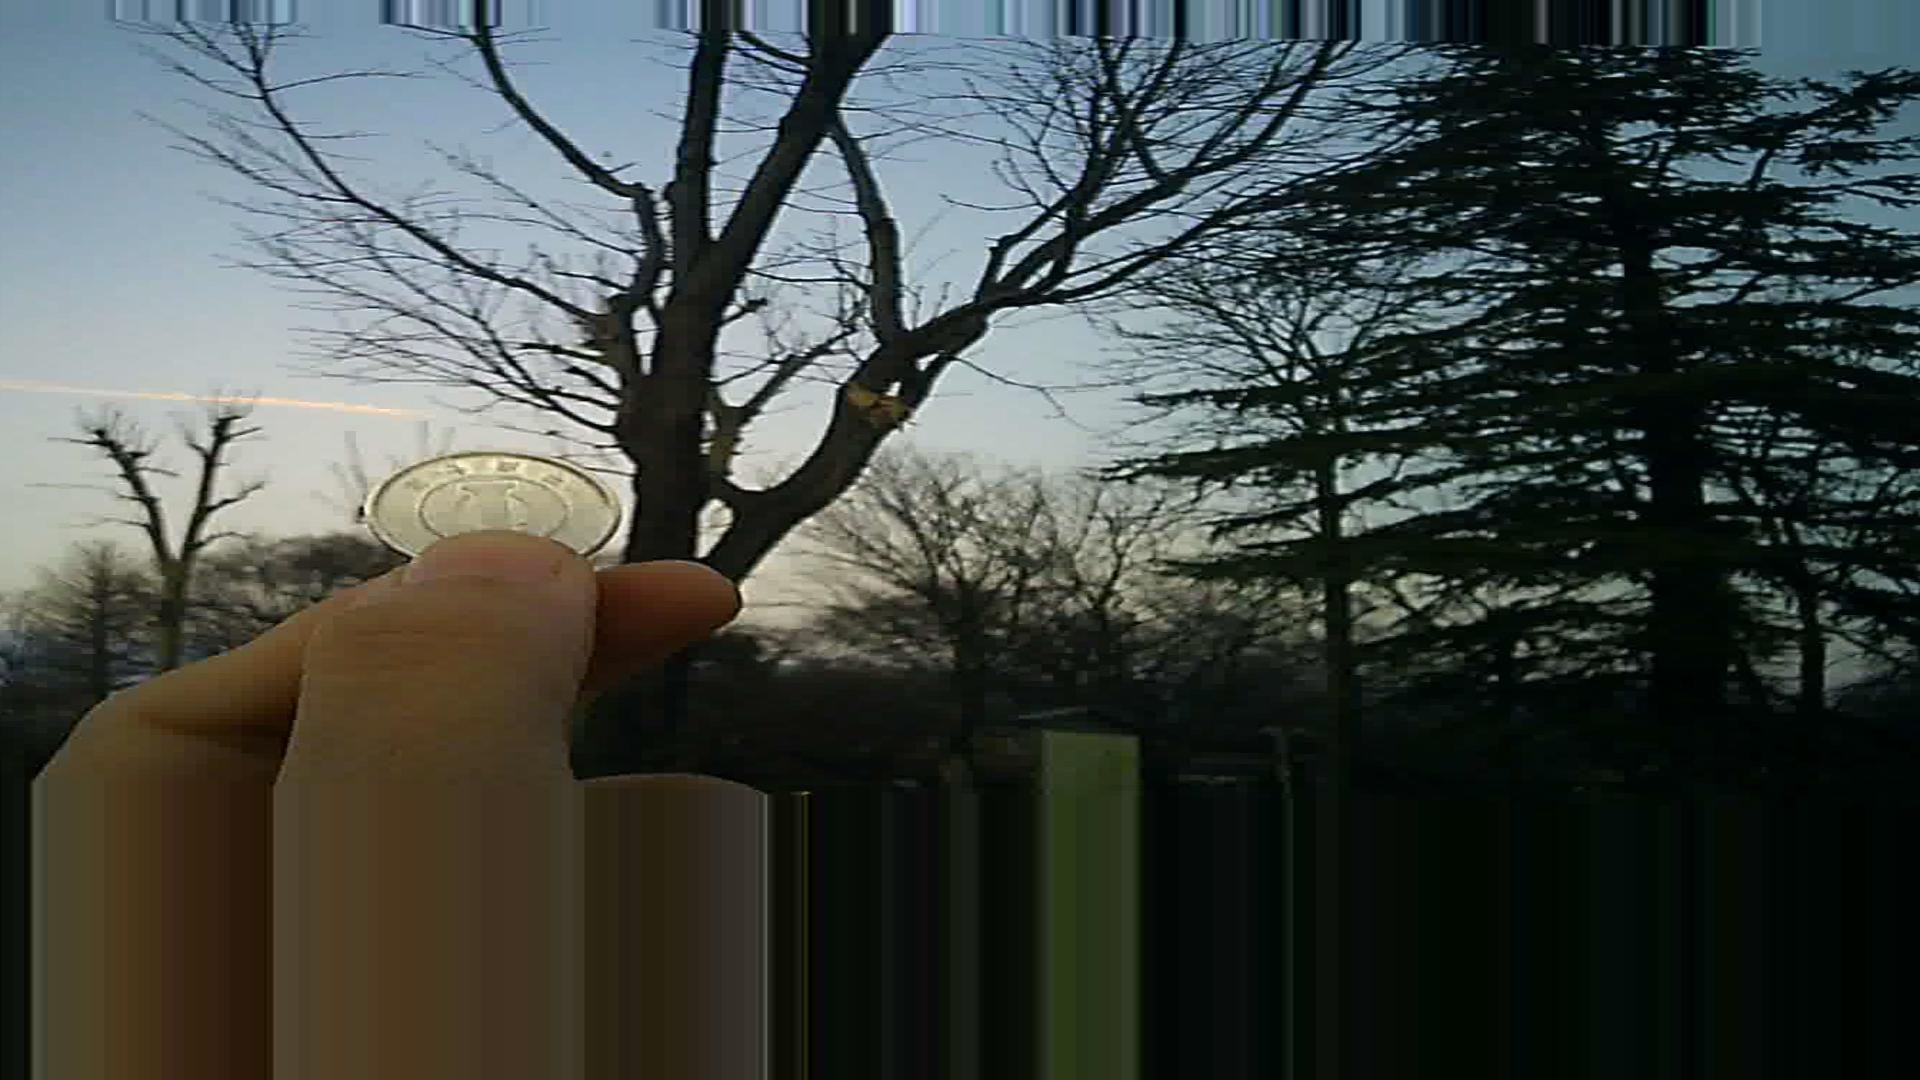1 Yen: (357, 439, 617, 583)
